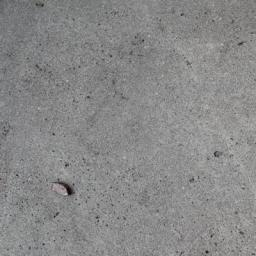FOD: (49, 178, 75, 200)
